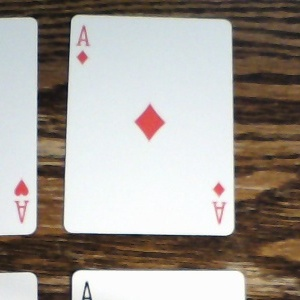card: (64, 13, 235, 236)
